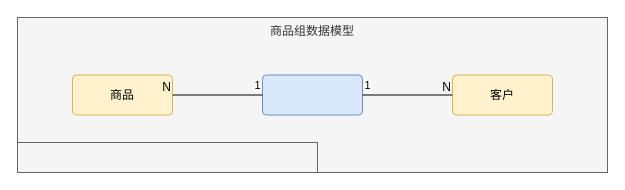
Some shapes in this 625 by 190 pixel diagram are drawn without their labels. Each missing label, with the box of its shape:
ps：客户购买商品，需要通过商品组中间表进行关联: (16, 142, 318, 172)
商品组: (262, 74, 362, 115)
